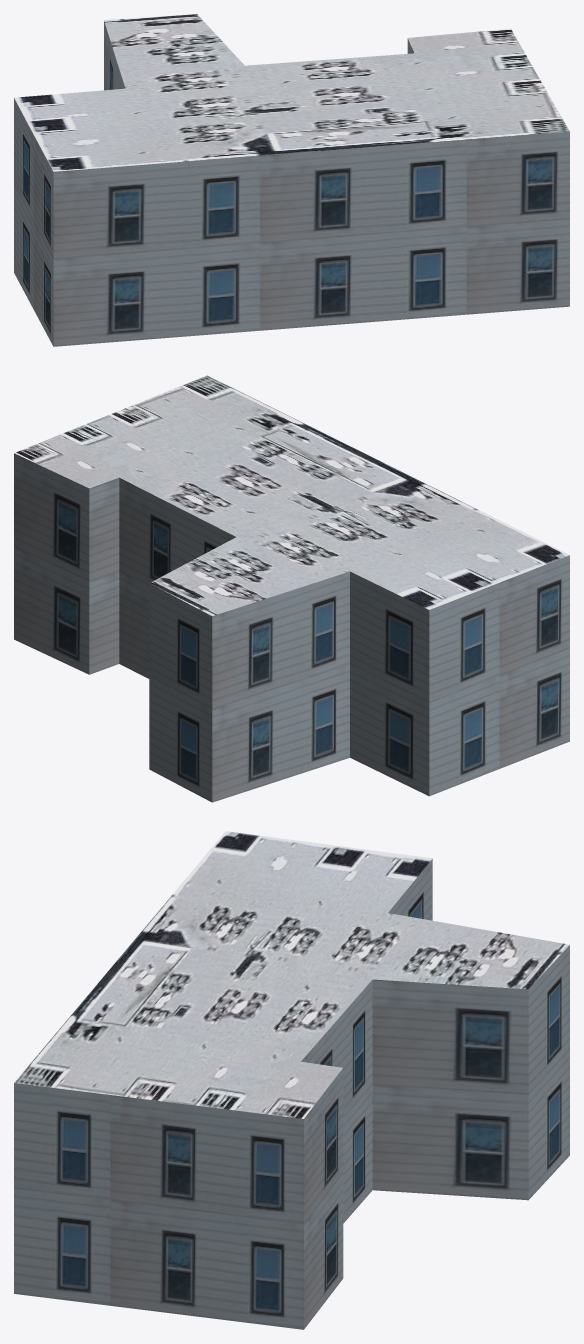
Rendered from ResTex__520.fbx.
3 renders of one model, top to bottom at view 1: azimuth 30°, elevation 25°; view 2: azimuth 150°, elevation 25°; view 3: azimuth 270°, elevation 25°, orthographic. The views are drawn at different scales.
Parts seen in each view (by area): view 1: CityEngineMaterial_18_m, CityEngineMaterial_m; view 2: CityEngineMaterial_18_m, CityEngineMaterial_m; view 3: CityEngineMaterial_18_m, CityEngineMaterial_m.
Boxes of the visible parts, left/top/right/bottom form: CityEngineMaterial_18_m: left=14, top=21, right=569, bottom=346; CityEngineMaterial_m: left=14, top=14, right=569, bottom=171; CityEngineMaterial_18_m: left=14, top=453, right=569, bottom=802; CityEngineMaterial_m: left=14, top=375, right=569, bottom=616; CityEngineMaterial_18_m: left=14, top=859, right=569, bottom=1329; CityEngineMaterial_m: left=14, top=831, right=569, bottom=1118.
Size of the model in its own units: 17.57 by 6 by 14.34.
Materials: 2 (2 with a texture image).
